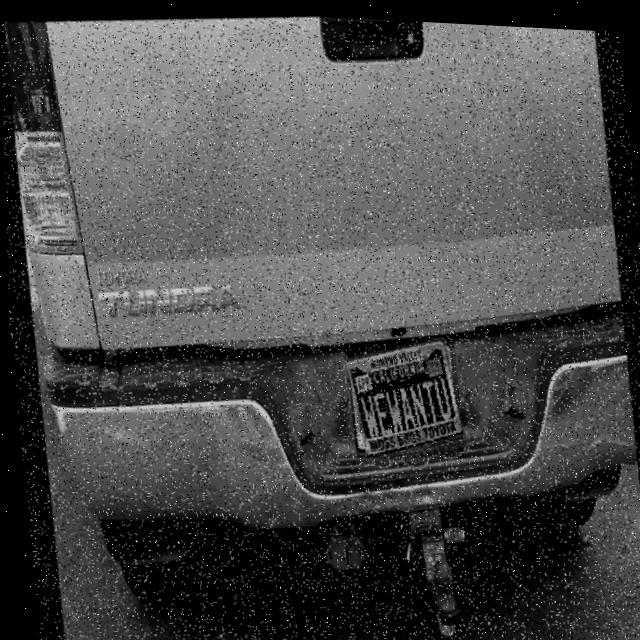LicensePlate: (343, 330, 463, 459)
